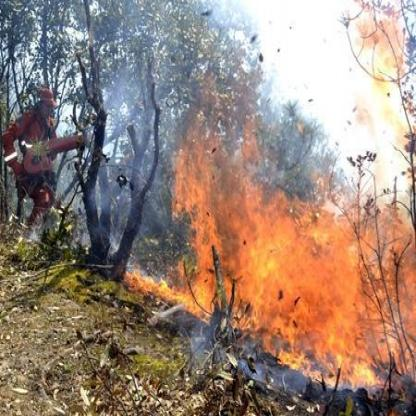fire: (114, 74, 414, 390), (343, 0, 410, 103)
smoke: (12, 5, 167, 253)
